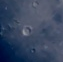crater: (16, 18, 41, 42)
